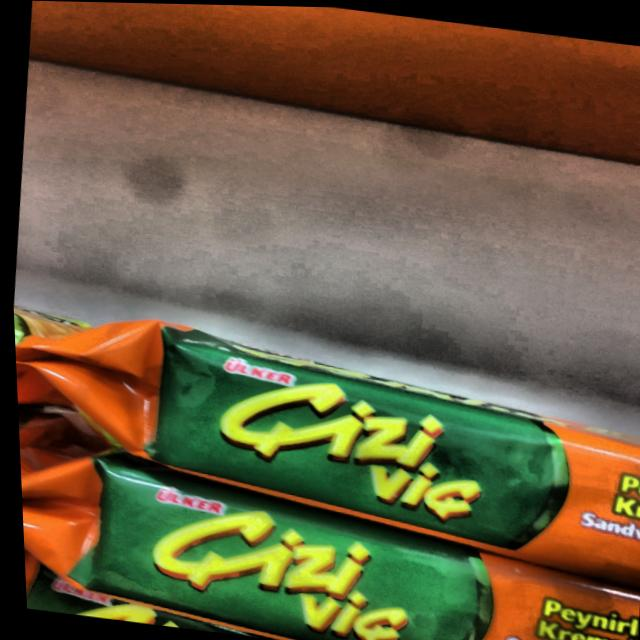Plastic: (62, 312, 640, 580), (19, 439, 627, 640)
